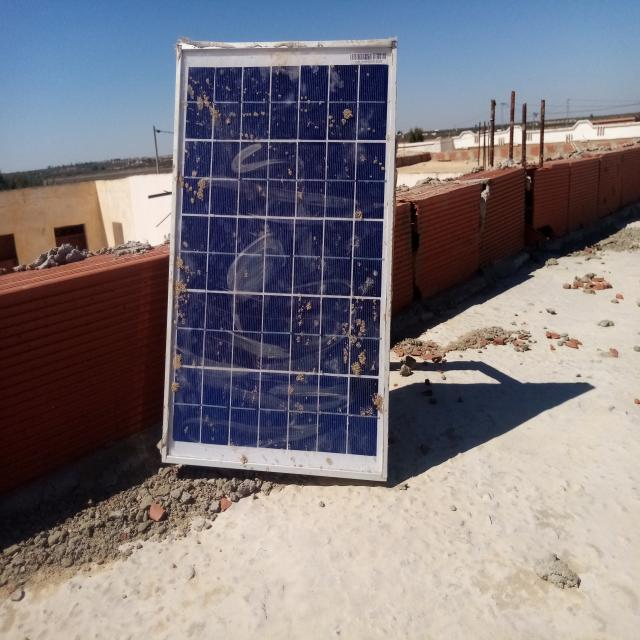faulty: (165, 45, 394, 476)
